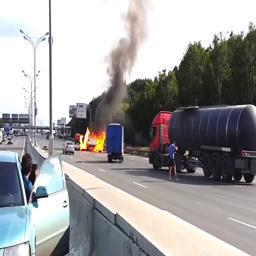fire: (80, 127, 106, 153)
